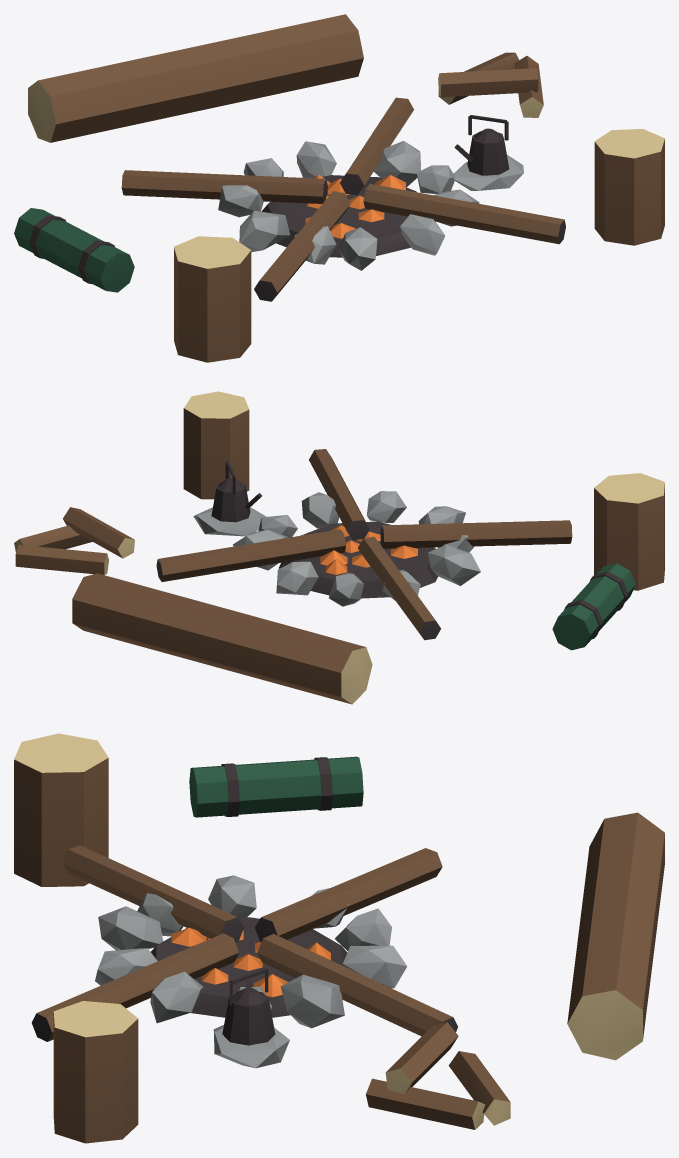
The model's file is campfire_1.glb.
3 renders of one model, top to bottom at view 1: azimuth 30°, elevation 25°; view 2: azimuth 150°, elevation 25°; view 3: azimuth 270°, elevation 25°, orthographic. The views are drawn at different scales.
Visible parts, largest first — view 1: campfire_1; view 2: campfire_1; view 3: campfire_1.
Boxes of the visible parts, x1,y1,x2,y2 form: campfire_1: (14, 14, 664, 362); campfire_1: (14, 391, 664, 704); campfire_1: (14, 733, 664, 1143).
Bounding box in the file's own units: 3.64 × 0.57 × 2.94.
